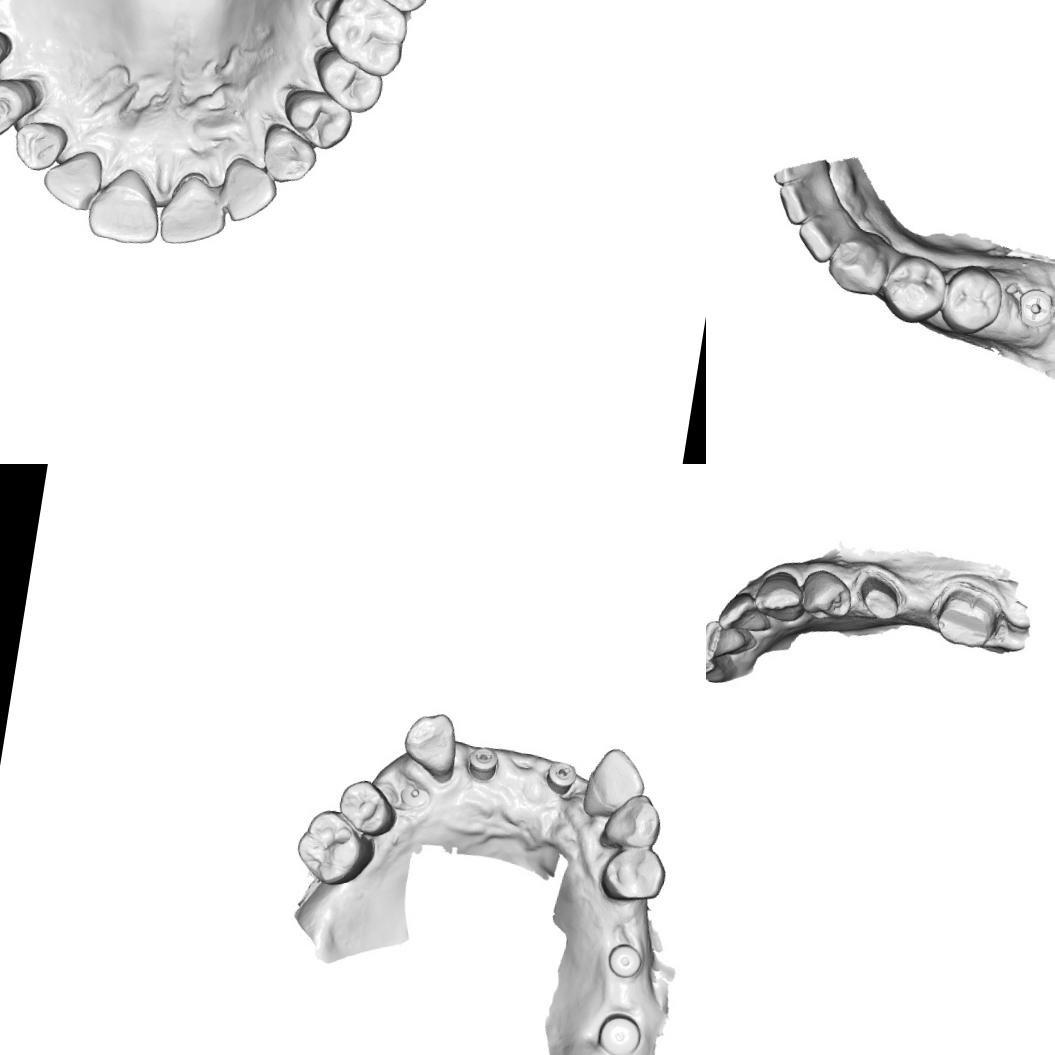canine: (824, 226, 890, 299), (399, 708, 462, 784), (598, 788, 666, 856), (255, 121, 323, 188), (8, 115, 71, 177), (750, 566, 810, 626)
crown: (924, 575, 1006, 653), (849, 564, 907, 624)
implant: (594, 1010, 644, 1055), (604, 941, 644, 980), (398, 782, 430, 810)
implant_minus: (464, 744, 504, 786), (542, 758, 580, 798)
implant_plus: (1013, 283, 1055, 334)
incisor: (82, 161, 170, 250), (155, 169, 233, 253), (580, 743, 650, 824), (38, 142, 108, 215), (218, 154, 284, 228), (793, 209, 854, 268), (770, 173, 828, 234), (716, 588, 776, 638), (706, 616, 758, 667), (706, 647, 732, 689)
molar: (317, 0, 413, 82), (292, 804, 380, 892), (351, 0, 445, 21)
premolar: (306, 44, 389, 118), (276, 82, 357, 154), (878, 252, 948, 327), (938, 262, 1006, 338), (596, 840, 670, 908), (334, 776, 400, 840), (796, 566, 856, 625), (0, 69, 34, 146)
